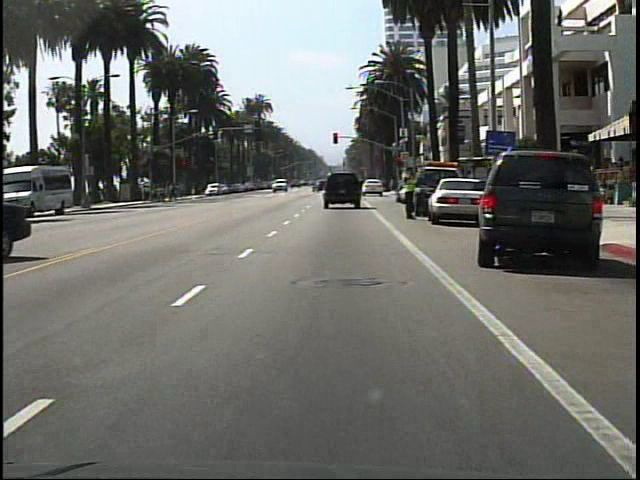person: (399, 164, 419, 220)
